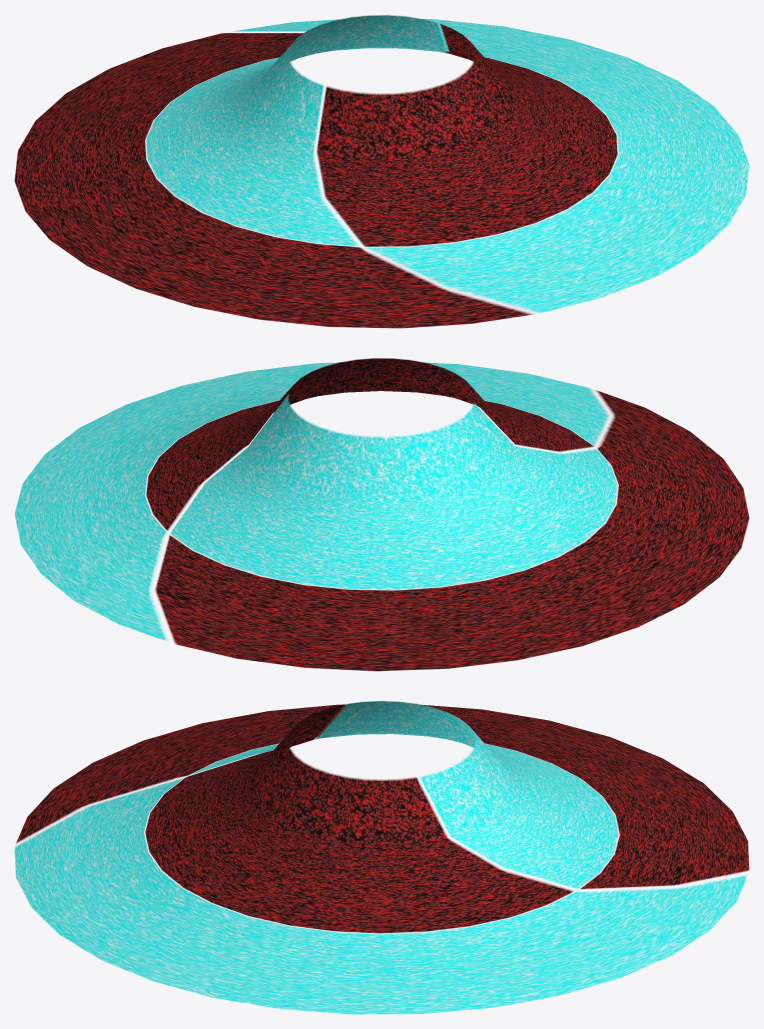
The picture shows the model from 3 angles, top to bottom: view 1: azimuth 30°, elevation 25°; view 2: azimuth 150°, elevation 25°; view 3: azimuth 270°, elevation 25°; orthographic projection.
Visible parts, largest first — view 1: SM_VFX_Skirt_Round_Swirl_320_LOD0; view 2: SM_VFX_Skirt_Round_Swirl_320_LOD0; view 3: SM_VFX_Skirt_Round_Swirl_320_LOD0.
Part boxes in pixels (x1=…): SM_VFX_Skirt_Round_Swirl_320_LOD0: x1=14, y1=15, x2=749, y2=328; SM_VFX_Skirt_Round_Swirl_320_LOD0: x1=14, y1=358, x2=749, y2=671; SM_VFX_Skirt_Round_Swirl_320_LOD0: x1=14, y1=701, x2=749, y2=1014.
Size of the model in its own units: 2.87 by 0.5182 by 2.87.
Materials: 1 (1 with a texture image).
